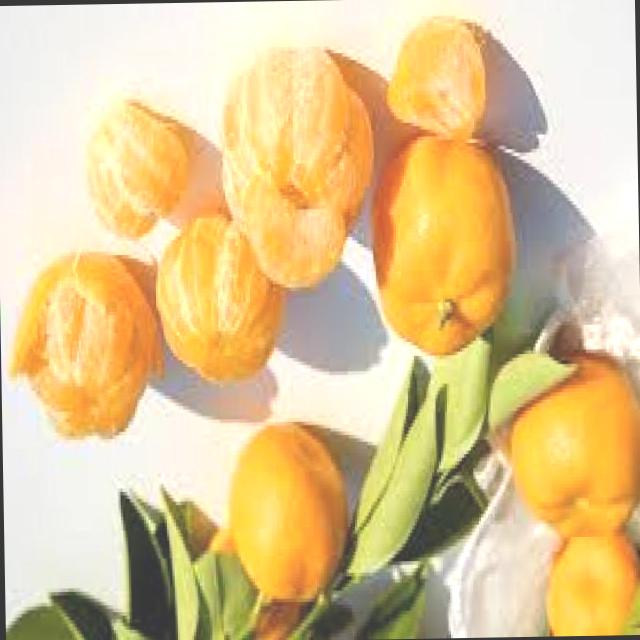Orange: (218, 48, 378, 292), (370, 135, 520, 360), (8, 250, 163, 444), (509, 351, 640, 541), (154, 209, 286, 388), (229, 424, 354, 606), (86, 100, 196, 244), (385, 18, 488, 144), (544, 531, 640, 636)
